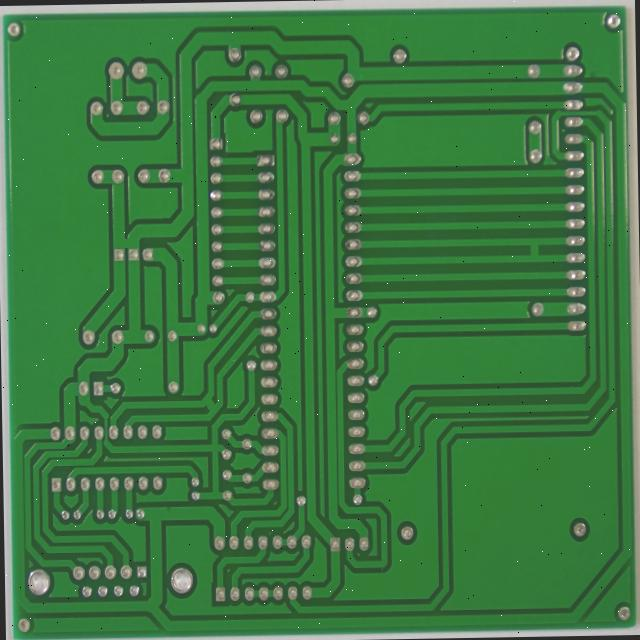short: (167, 428, 193, 458), (516, 259, 540, 290), (79, 253, 101, 279)
